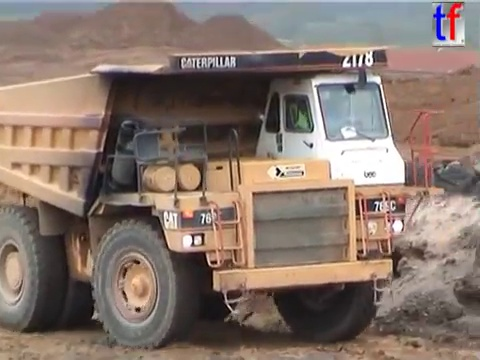truck: (1, 42, 445, 352)
